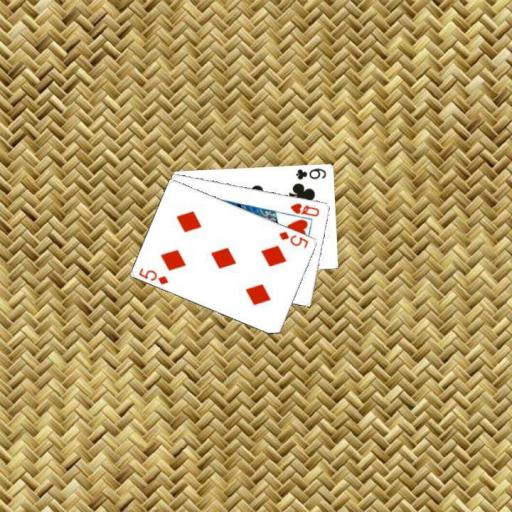card-corner: (276, 228, 310, 250), (136, 264, 170, 286), (287, 200, 321, 218), (293, 165, 328, 181)
